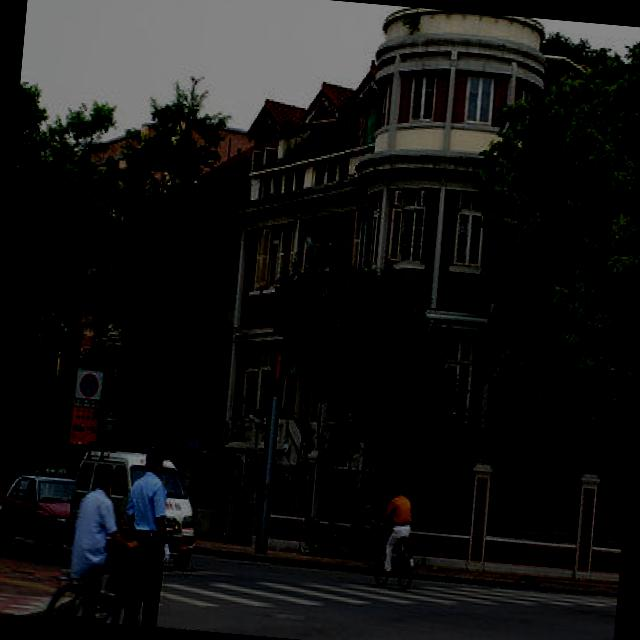Vehicle: (68, 439, 203, 572), (3, 466, 85, 550), (0, 469, 6, 539)
